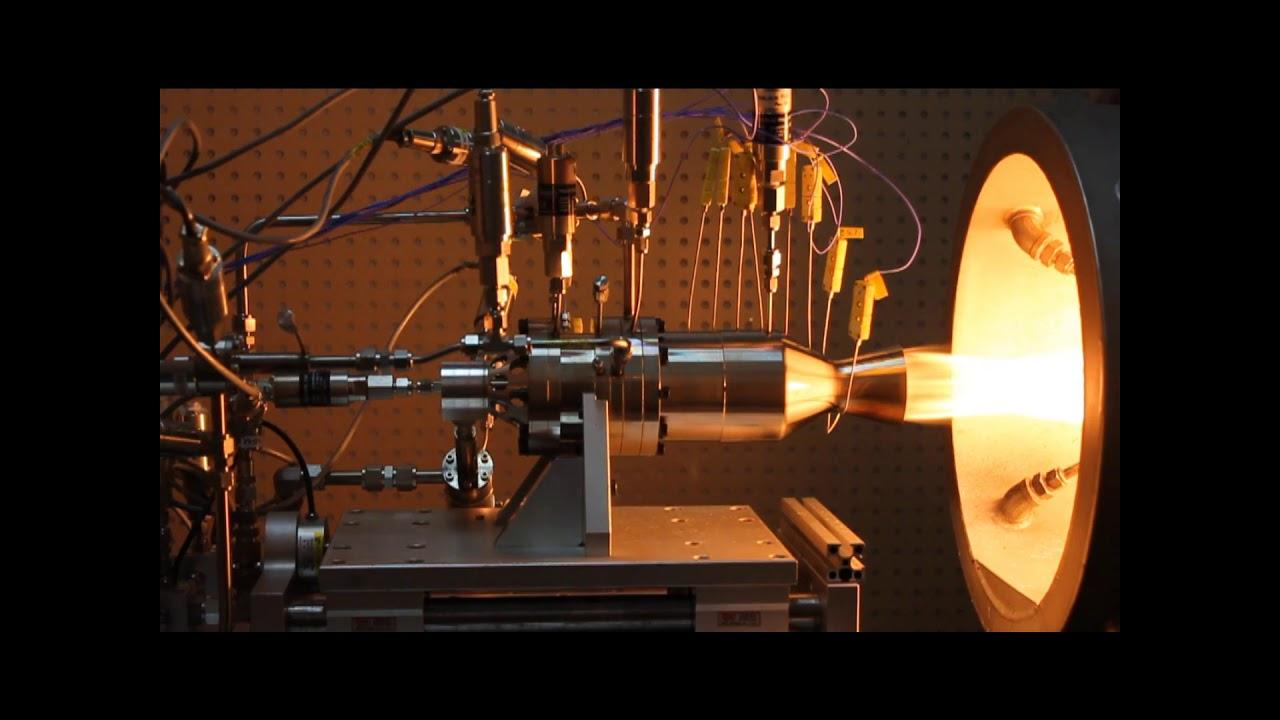thruster: (787, 329, 911, 446)
